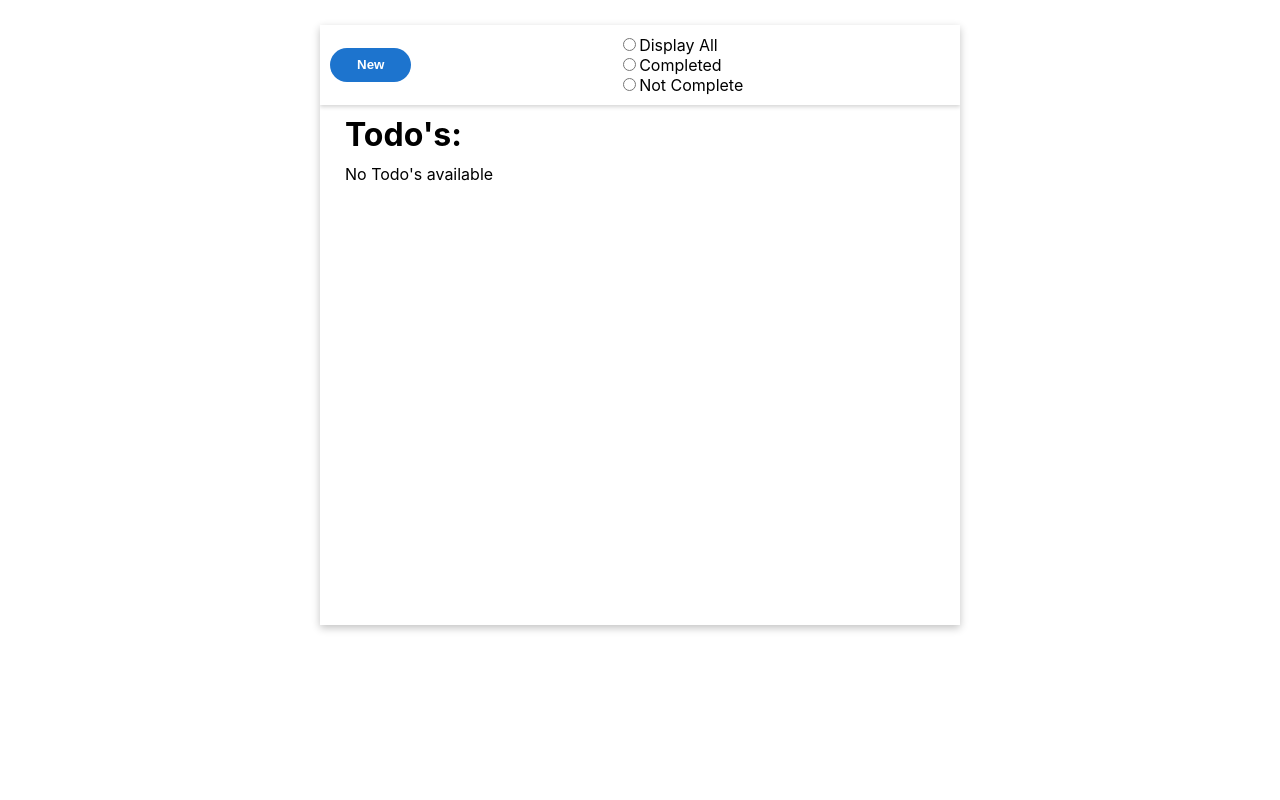
Given that the new todo form loads › loads the new task form correctly
Click the button "New" at coordinates (371, 65), box [330,48,411,81]
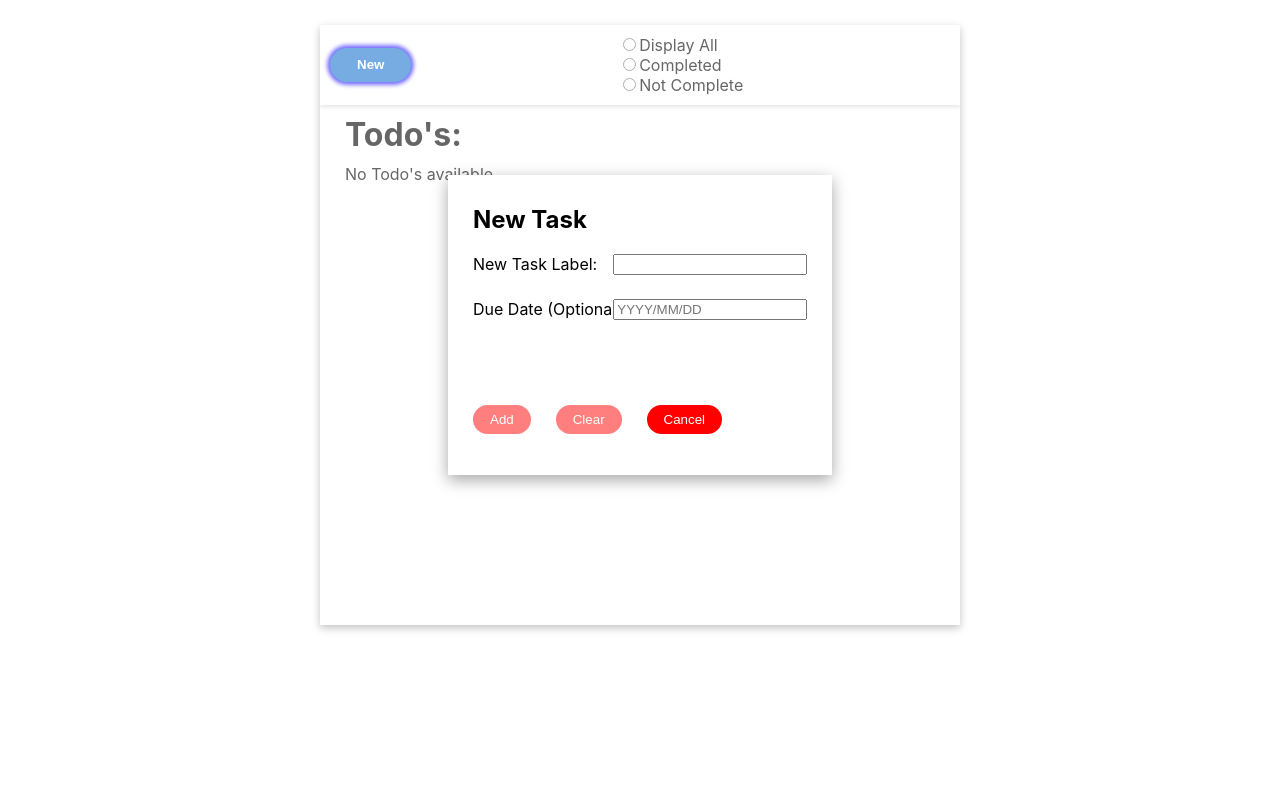
Expected: the text "cancel" is enabled
Now the button "Add" is disabled, box [473,405,531,434]
Now the button "Clear" is disabled, box [556,405,622,434]
